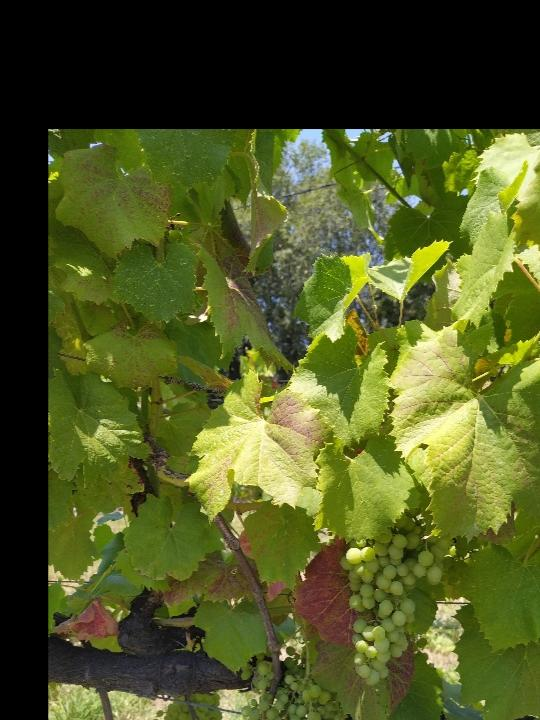grape: (341, 508, 444, 690), (236, 637, 344, 720), (143, 693, 221, 720)
